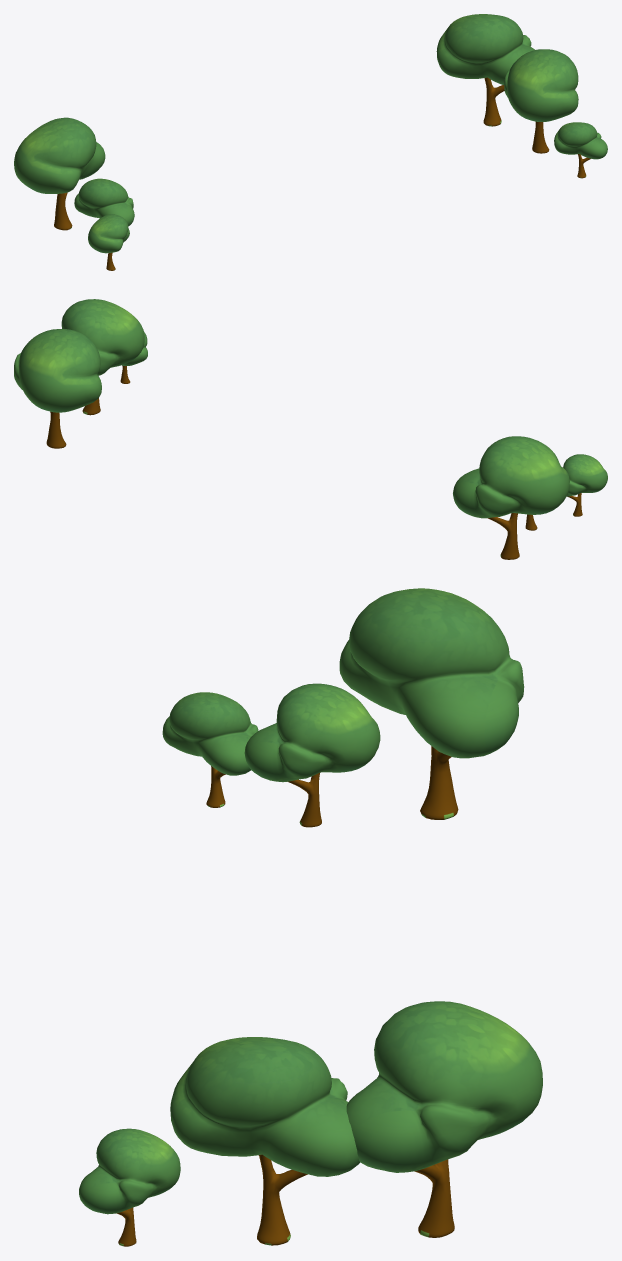
The model's file is cay.fbx.
3 renders of one model, top to bottom at view 1: azimuth 30°, elevation 25°; view 2: azimuth 150°, elevation 25°; view 3: azimuth 270°, elevation 25°, orthographic. The views are drawn at different scales.
Visible parts, largest first — view 1: pasted__cay2, pasted__cay4, pasted__cay5, pasted__cay7, pasted__cay6, pasted__cay3; view 2: pasted__cay2, pasted__cay4, pasted__cay5, pasted__cay3, pasted__cay6; view 3: pasted__cay4, pasted__cay2, pasted__cay5, pasted__cay7, pasted__cay6, pasted__cay3.
Boxes of the visible parts, left/top/right/bottom form: pasted__cay2: left=14, top=117, right=105, bottom=230; pasted__cay4: left=436, top=14, right=534, bottom=126; pasted__cay5: left=504, top=49, right=578, bottom=153; pasted__cay7: left=74, top=178, right=134, bottom=226; pasted__cay6: left=554, top=122, right=607, bottom=178; pasted__cay3: left=88, top=214, right=129, bottom=270; pasted__cay2: left=453, top=436, right=569, bottom=559; pasted__cay4: left=14, top=329, right=101, bottom=448; pasted__cay5: left=61, top=299, right=144, bottom=415; pasted__cay3: left=563, top=454, right=607, bottom=516; pasted__cay6: left=120, top=332, right=147, bottom=383; pasted__cay4: left=346, top=1001, right=542, bottom=1237; pasted__cay2: left=339, top=588, right=524, bottom=819; pasted__cay5: left=170, top=1037, right=359, bottom=1245; pasted__cay7: left=244, top=683, right=380, bottom=827; pasted__cay6: left=79, top=1128, right=180, bottom=1246; pasted__cay3: left=162, top=692, right=258, bottom=807.
Size of the model in its own units: 1390 by 275 by 542.
1 material, 1 textured.
